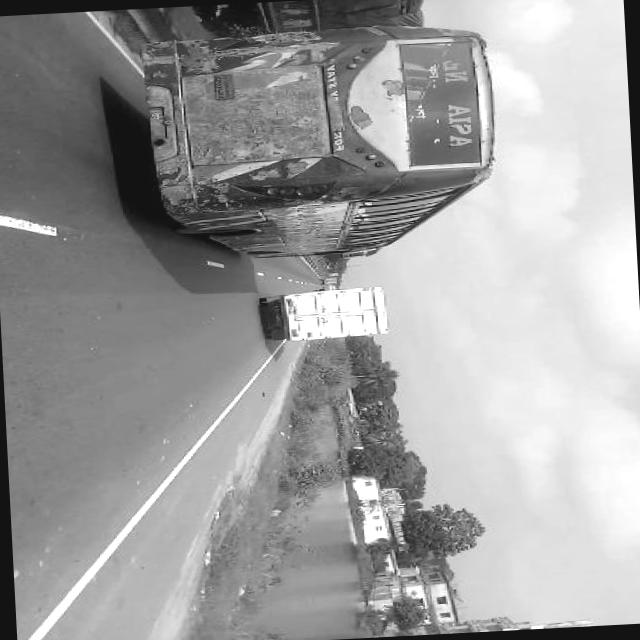bus: (138, 24, 500, 270), (326, 286, 338, 291)
truck: (262, 287, 398, 345), (324, 278, 339, 286)
